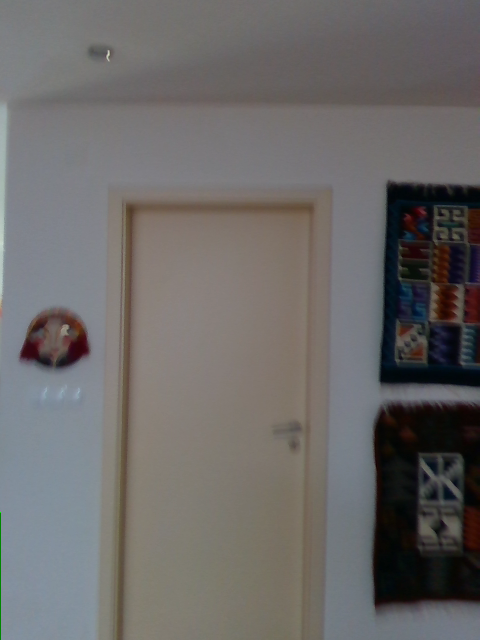closed: (99, 184, 326, 639)
